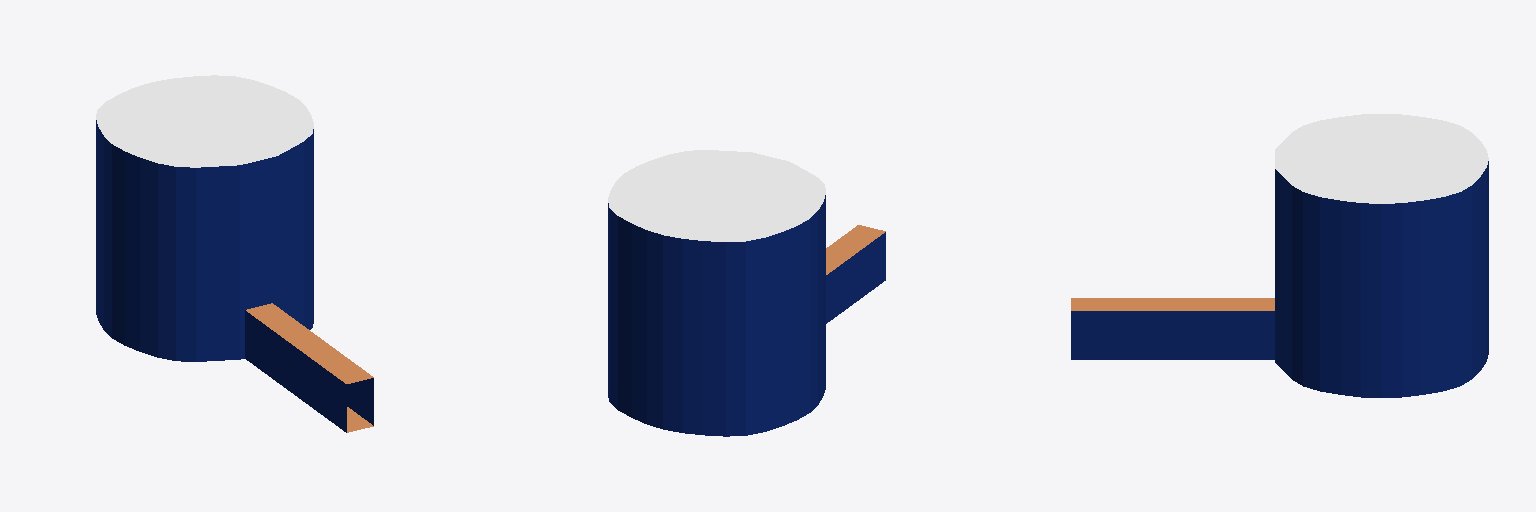
Rendered from admin.obj.
The picture shows the model from 3 angles: view 1: azimuth 30°, elevation 25°; view 2: azimuth 150°, elevation 25°; view 3: azimuth 270°, elevation 25°; orthographic projection.
Visible parts, largest first — view 1: result.003_Cube.018; view 2: result.003_Cube.018; view 3: result.003_Cube.018.
Part boxes in pixels (bbox=[...]): result.003_Cube.018: bbox=[96, 75, 373, 432]; result.003_Cube.018: bbox=[608, 150, 885, 436]; result.003_Cube.018: bbox=[1071, 114, 1488, 397].
Bounding box in the file's own units: 20 × 20 × 39.